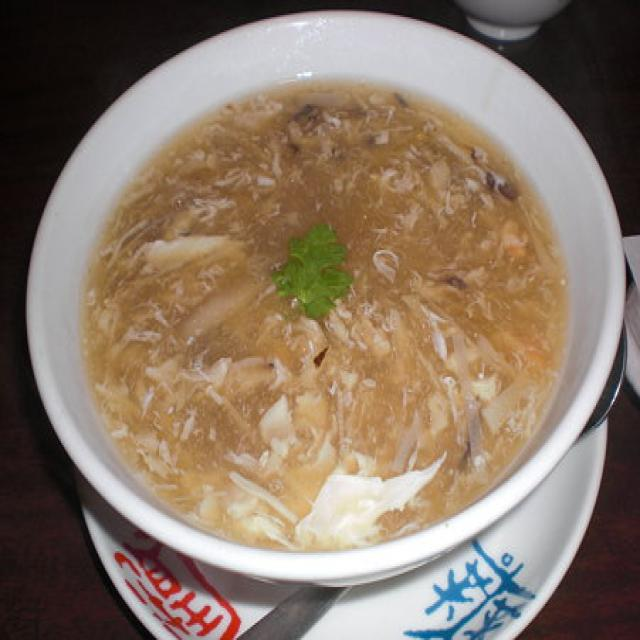汤锅炖物: (17, 4, 629, 608)
